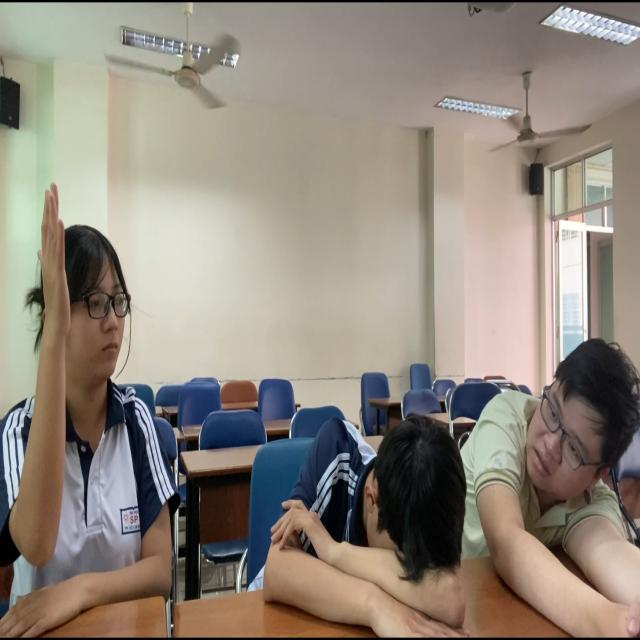raise_hand: (1, 179, 171, 623)
sleep: (262, 412, 471, 640)
